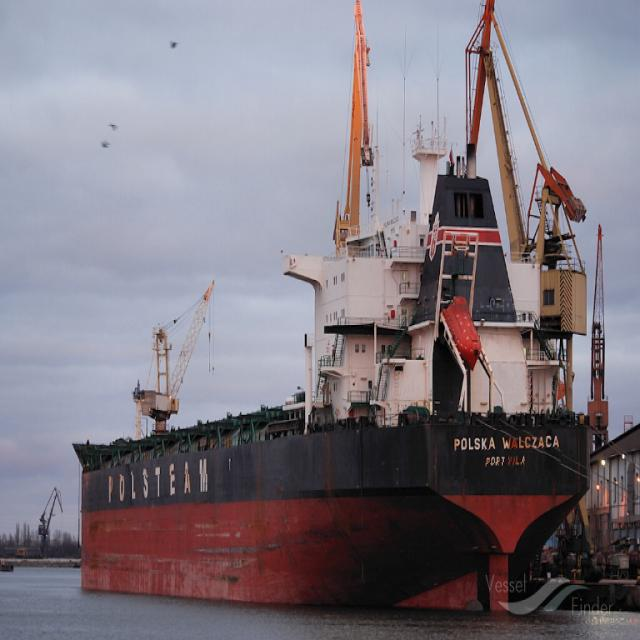OCR: (103, 453, 210, 509), (450, 430, 564, 480)
